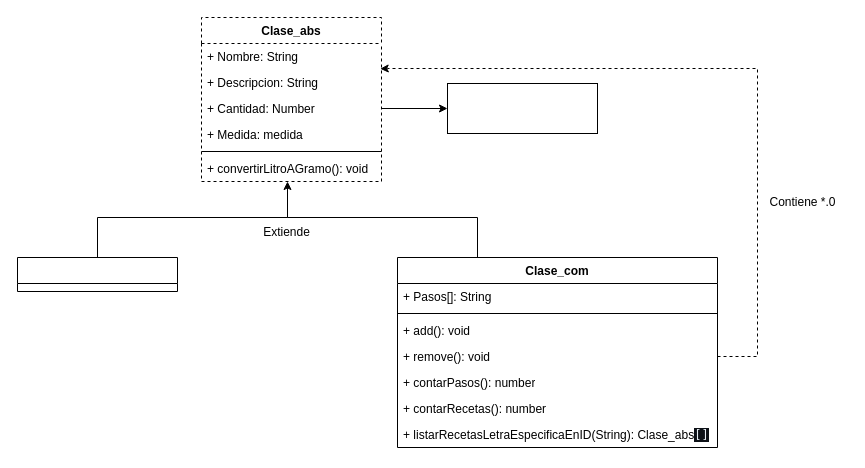
Image size: 865x468. Some labels were removed from this diagram. Each missing label, with the centre of its shape:
<< ENUM >> Medida LITRO,GRAMO, UNIDAD: pixel 522 108
Clase_sim: pixel 97 274
